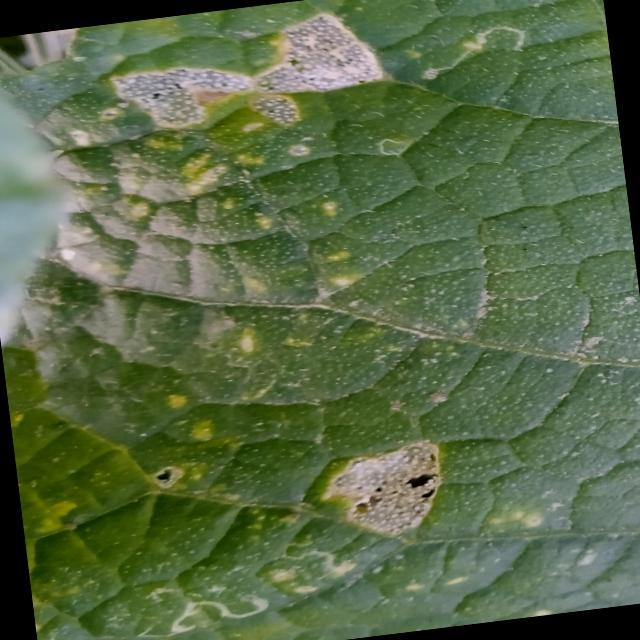cucumber_anthracnose: (18, 0, 628, 640)
